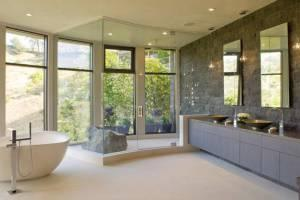window: (3, 25, 180, 137)
